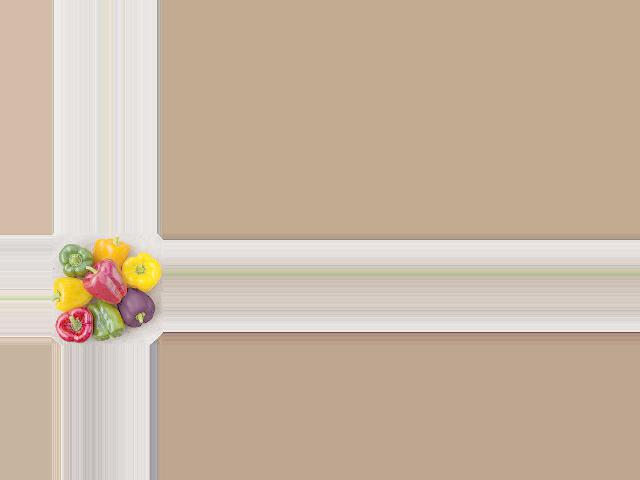bell_pepper: (111, 287, 153, 337)
